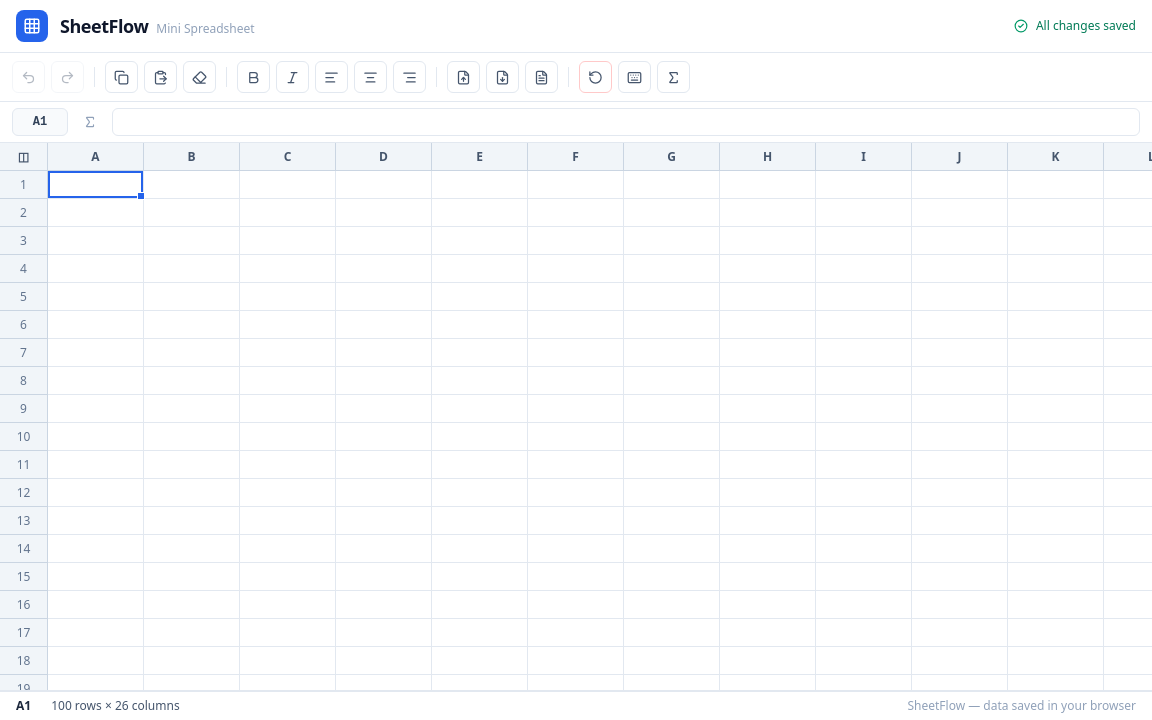
Test: formula guide content › opens read-only with a title and subtitle
Step 1. Click the button named "Formulas" → (674, 77), box [657, 61, 690, 93]
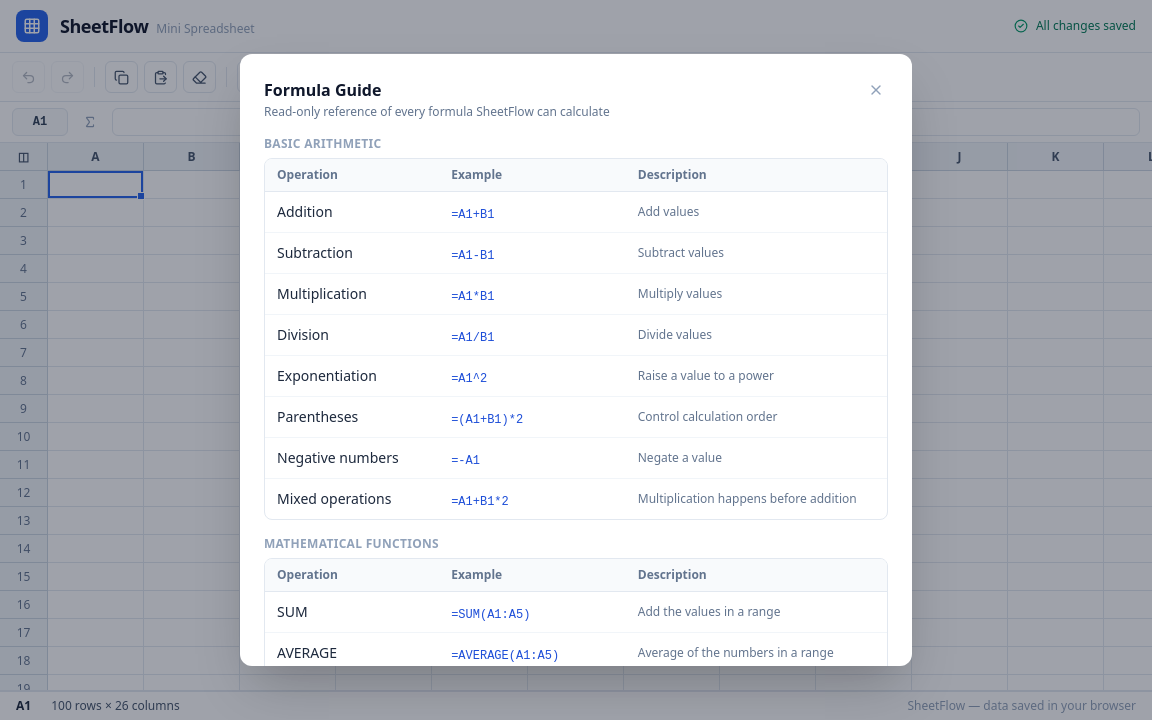
Check: the dialog with test id "formula-helper-dialog" is shown
Check: the heading "Formula Guide" is shown, box [264, 79, 382, 101]
Check: the text "Read-only reference of every formula SheetFlow can calculate" is shown, box [264, 104, 610, 120]
